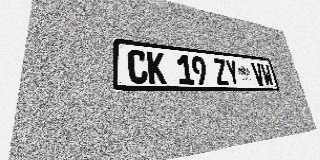1: (176, 54, 195, 85)
9: (191, 56, 209, 85)
C: (127, 49, 148, 84)
K: (147, 51, 167, 84)
V: (251, 62, 266, 86)
W: (260, 63, 274, 86)
Y: (224, 59, 241, 85)
Z: (213, 58, 230, 85)
